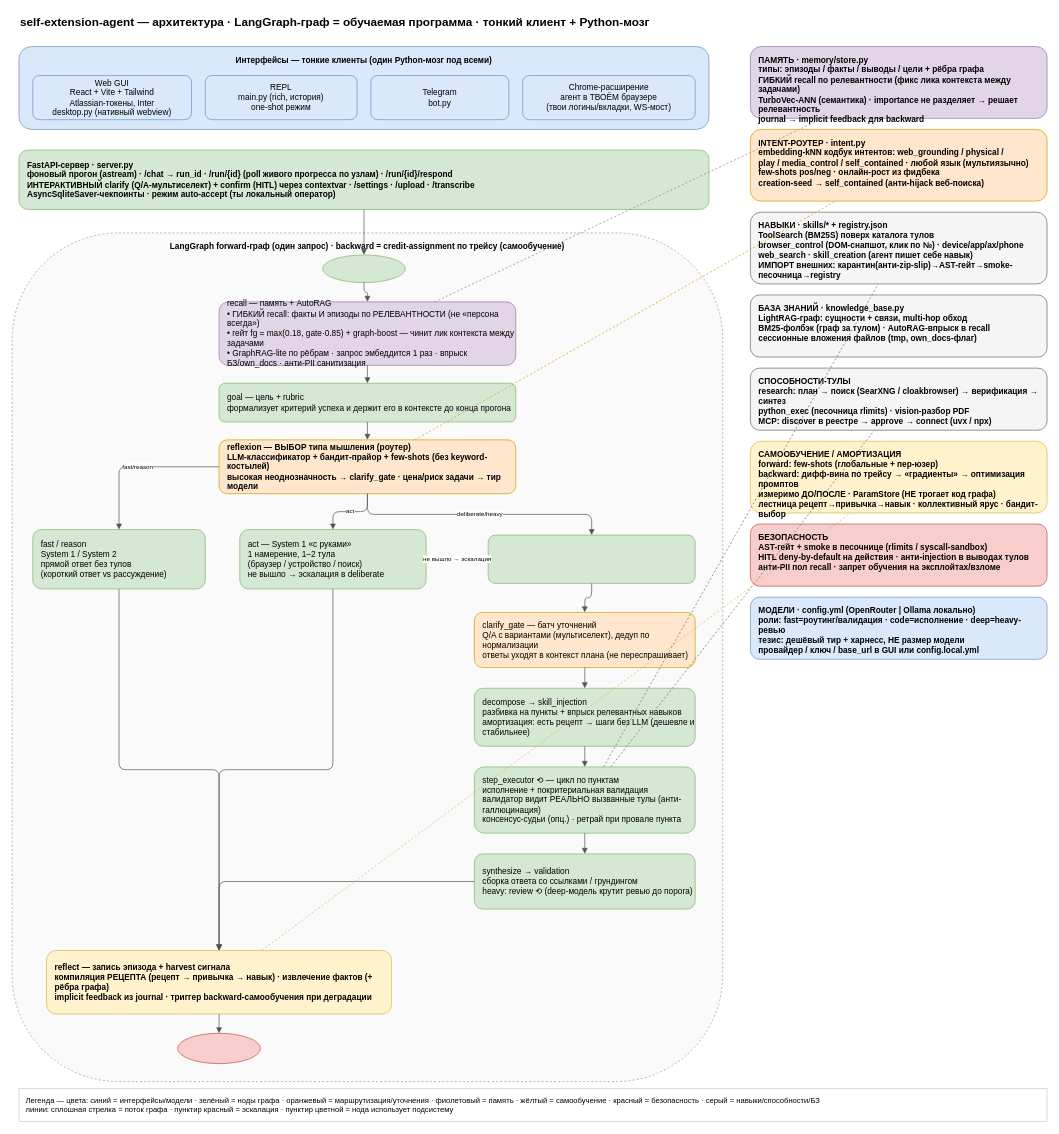
Some shapes in this 1059 by 1134 pixel diagram are drawn without their labels. The shapes that lost their labels are listed below. From the top down, each one's centre as x and y in pixels, then its label:
At (x=363, y=268): "START".
At (x=591, y=558): "deliberate / heavy многошаговый план (heavy = + ревью-петля)".
At (x=218, y=1048): "END".
